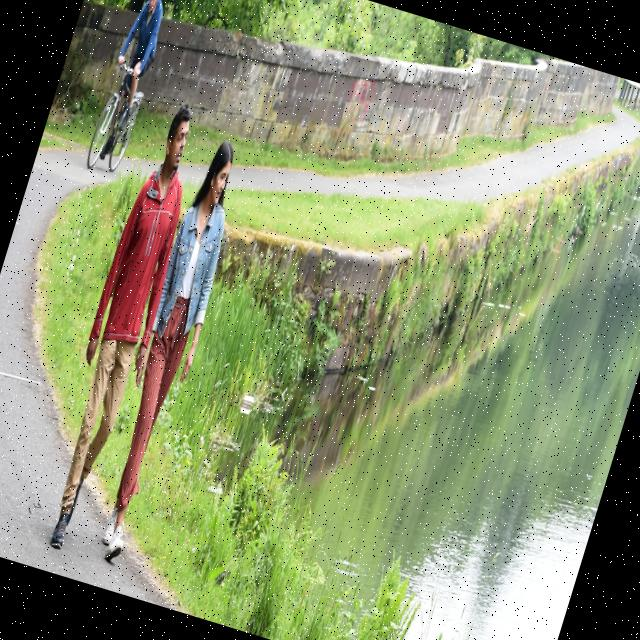Person: (27, 97, 217, 555), (79, 133, 257, 567), (89, 0, 174, 164)
